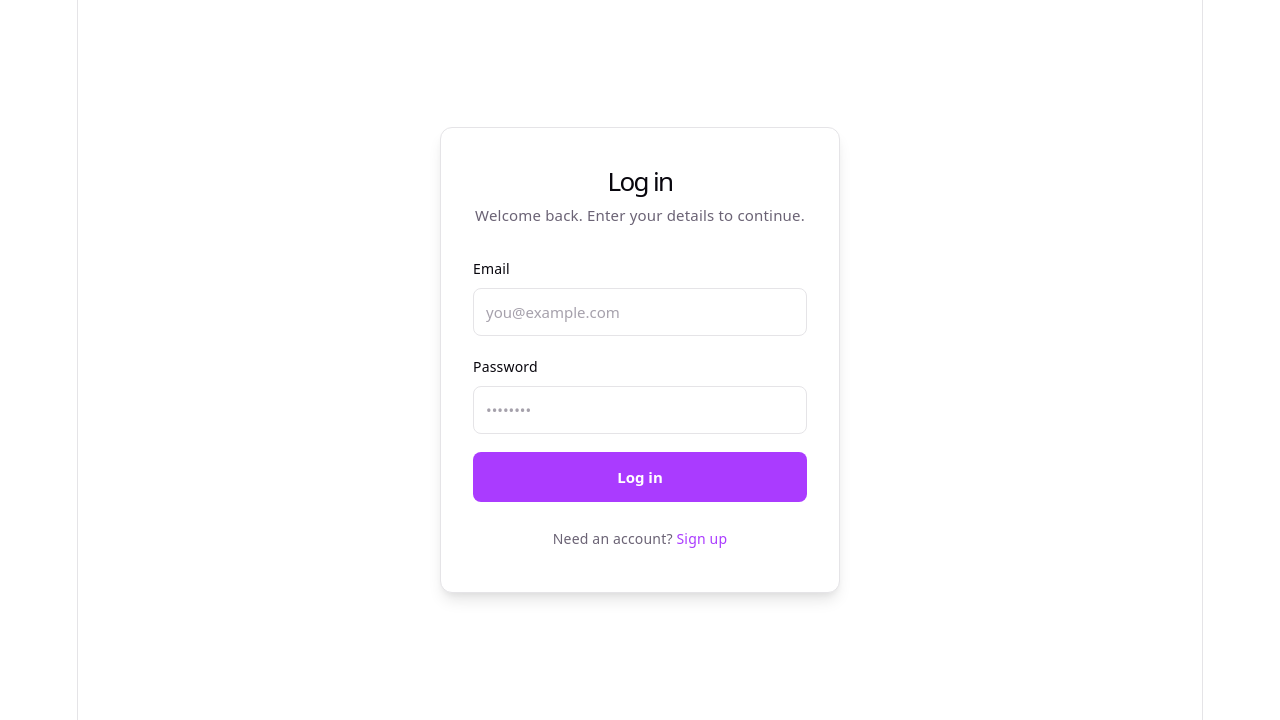
LoginPage › shows a generic error on invalid credentials without saying which field was wrong
This screenshot has width=1280, height=720.
Type "a@example.com" into the field labelled "Email".
click(640, 312); type("a@example.com")  # box top-left (473, 288), bottom-right (807, 336)
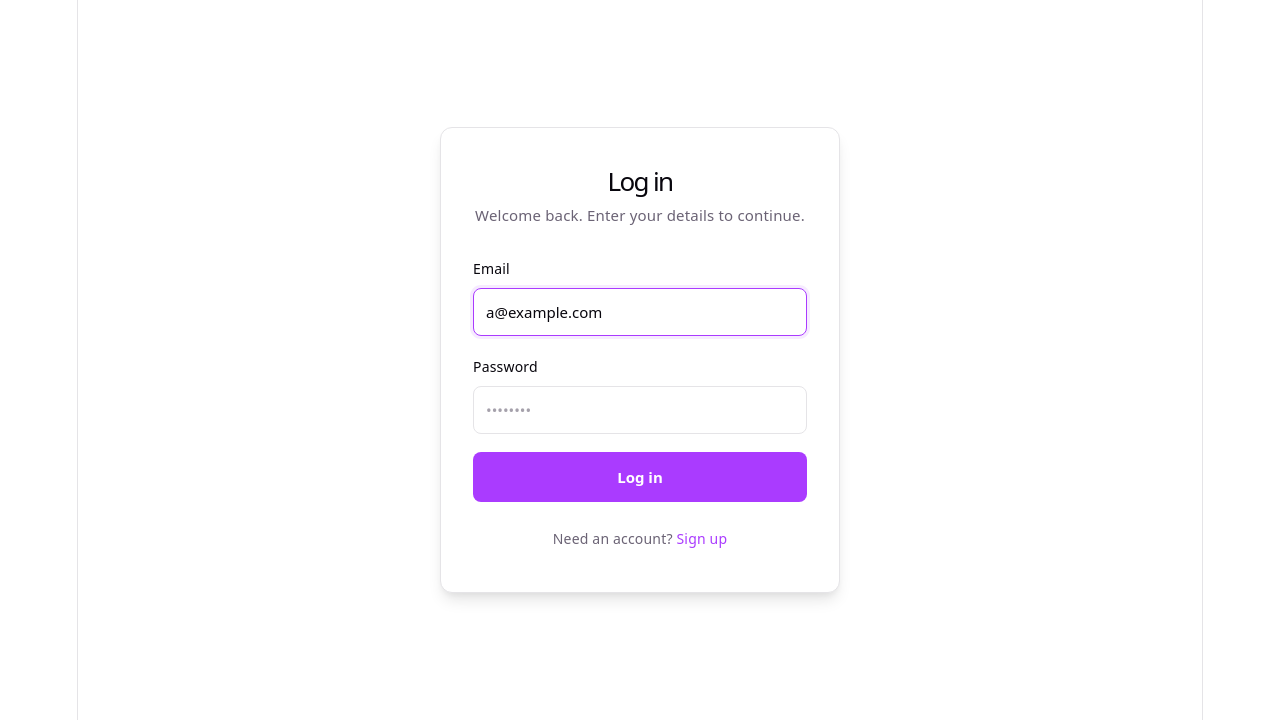
Type "wrong-password" into the password field labelled "Password".
click(640, 410); type("wrong-password")  # box top-left (473, 386), bottom-right (807, 434)
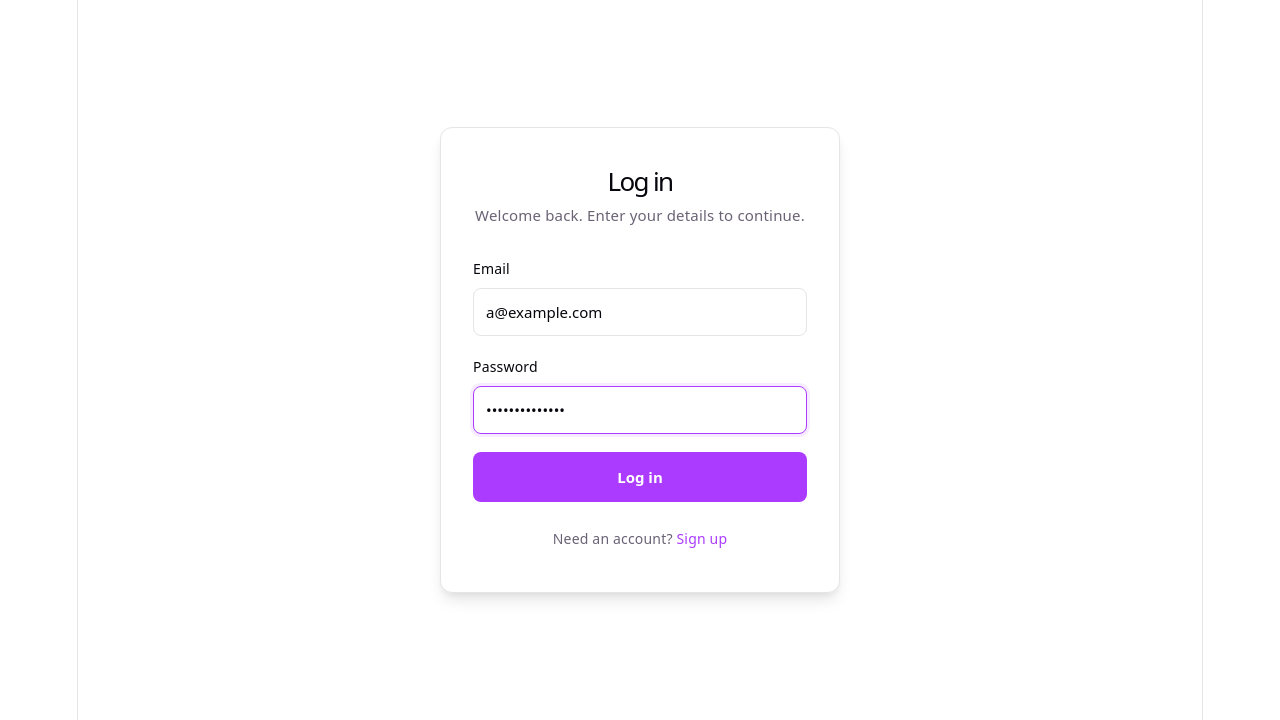
Click the button "Log in".
click(640, 477)  # box top-left (473, 452), bottom-right (807, 502)
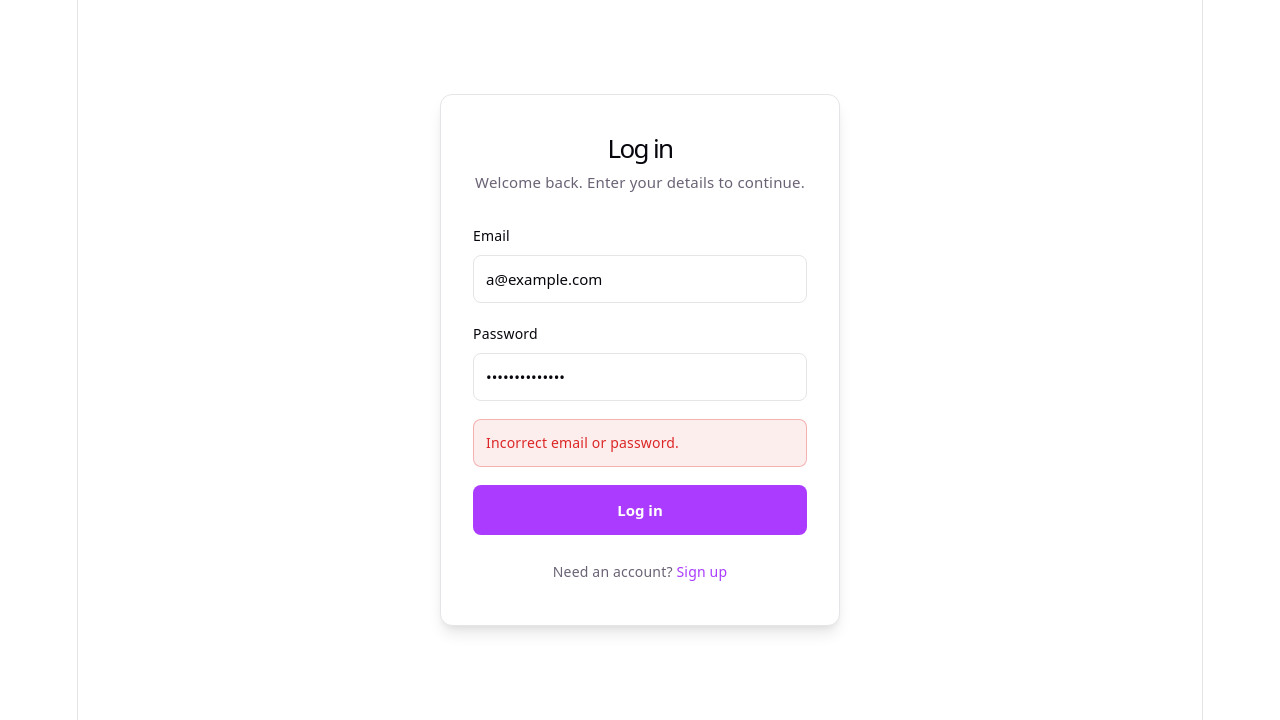
Now the text "Incorrect email or password." is shown, box top-left (473, 419), bottom-right (807, 467)
